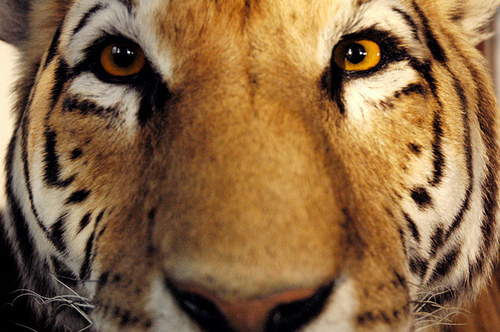Tigre: (74, 8, 485, 316)
